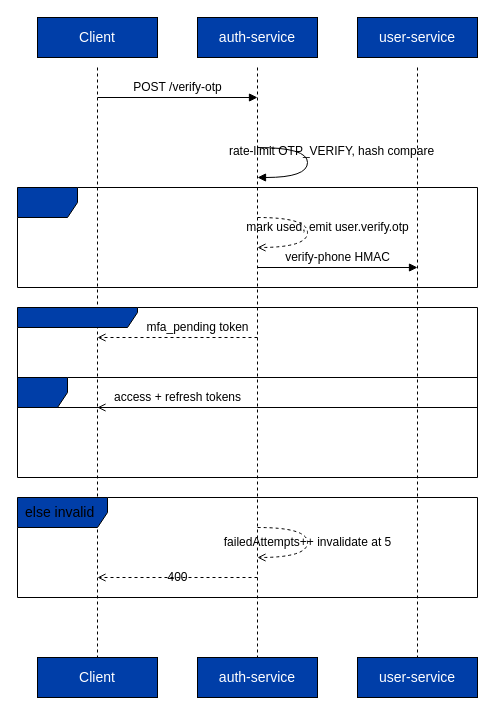
Image size: 495x715. Some labels were removed from this diagram. Each missing label, with the centre of its shape:
"else" goes at point (247, 427).
"role needs MFA" goes at point (247, 357).
"valid" goes at point (247, 237).
